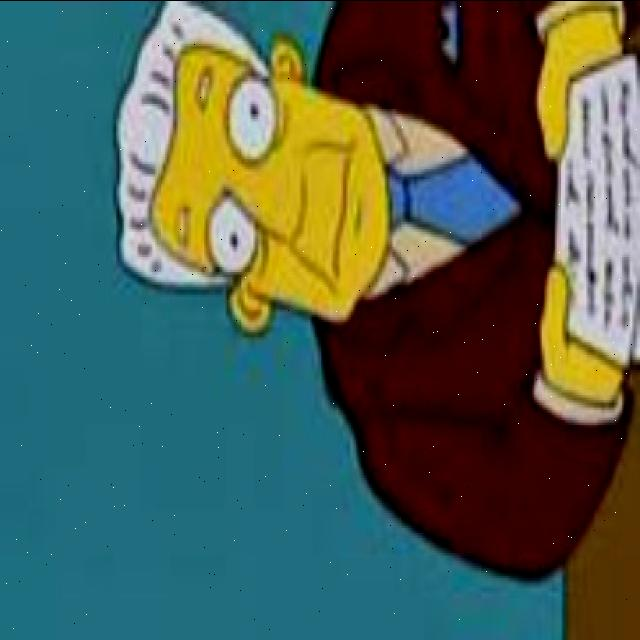Kent Brockman: (110, 1, 393, 340)
